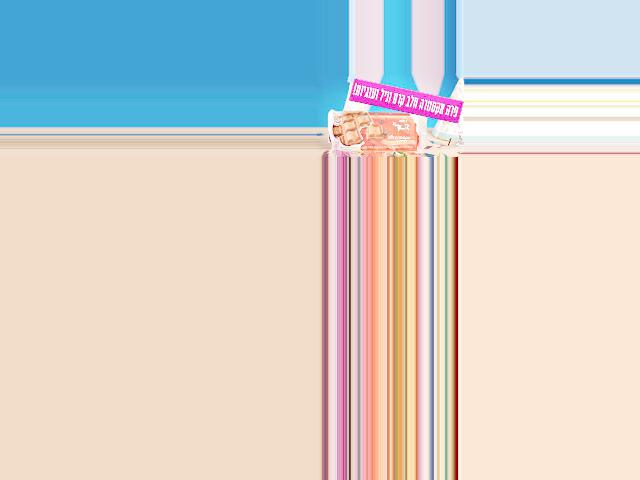chocolate: (325, 108, 429, 153)
